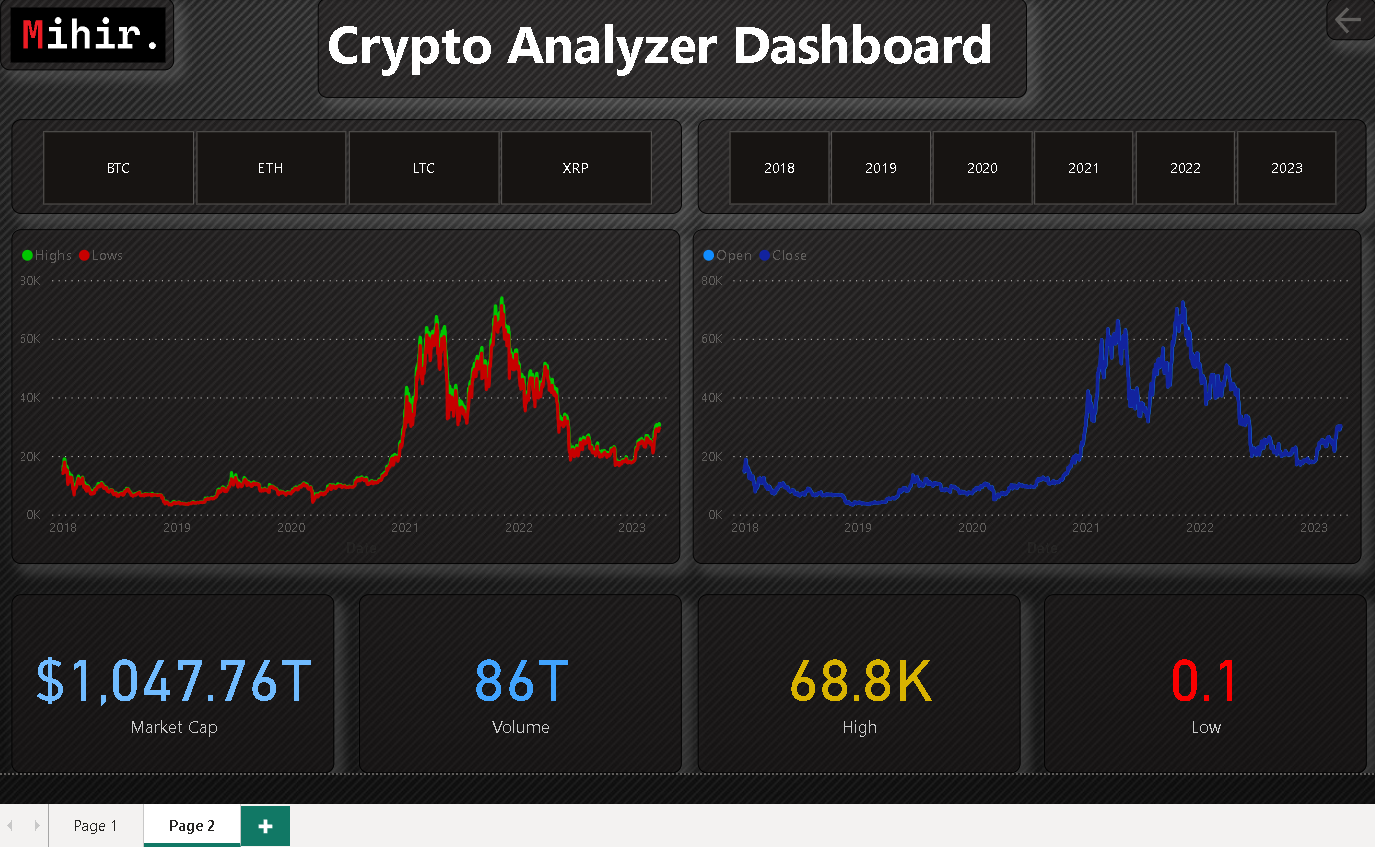

This screenshot's page, from the dashboard's own definition file:
{"tool":"powerbi","page":{"name":"Page 2","canvas":[1280,720],"ordinal":1},"visuals":[{"type":"textbox","box":[296.3,0,658.8,93],"z":0},{"type":"slicer","fields":{"Values":["crypto_combine.Crypto"]},"box":[11.6,112.7,622.8,88.3],"z":1000},{"type":"slicer","fields":{"Values":["crypto_combine.Date.Variation.Date Hierarchy.Year"]},"box":[649.5,112.7,621.6,88.3],"z":2000},{"type":"image","box":[1.2,0,161.5,67.4],"z":5000},{"type":"actionButton","box":[1234,0,46.5,39.5],"z":6000},{"type":"card","fields":{"Values":["crypto_combine.Market Cap"]},"box":[11.6,554.3,300,166.2],"z":8000},{"type":"card","fields":{"Values":["crypto_combine.Volume"]},"box":[334.6,554.3,299.8,166.2],"z":9000},{"type":"card","fields":{"Values":["crypto_combine.High"]},"box":[649.5,554.3,299.8,166.2],"z":10000},{"type":"card","fields":{"Values":["crypto_combine.Low"]},"box":[971.4,554.3,299.8,166.2],"z":11000},{"type":"lineChart","title":"Highs and Lows ","fields":{"Y":["crypto_combine.High","crypto_combine.Low"],"Category":["crypto_combine.Date"]},"box":[11.6,215,621.6,311.4],"z":12000},{"type":"lineChart","title":"Highs and Lows ","fields":{"Category":["crypto_combine.Date"],"Y":["crypto_combine.Open","crypto_combine.Close"]},"box":[644.9,215,621.6,311.4],"z":12001}]}

Visuals, with their boxes on the page's 1280x720 design canvas (x1, y1, x2, y2). These are canvas units, not pixel positions in the 1375x847 screenshot, which may show the page scaled, cropped or inside an application window:
textbox: [296,0,955,93]
slicer - crypto_combine.Crypto: [12,113,634,201]
slicer - crypto_combine.Date.Variation.Date Hierarchy.Year: [650,113,1271,201]
image: [1,0,163,67]
actionButton: [1234,0,1280,40]
card - crypto_combine.Market Cap: [12,554,312,720]
card - crypto_combine.Volume: [335,554,634,720]
card - crypto_combine.High: [650,554,949,720]
card - crypto_combine.Low: [971,554,1271,720]
"Highs and Lows " lineChart: [12,215,633,526]
"Highs and Lows " lineChart: [645,215,1266,526]
